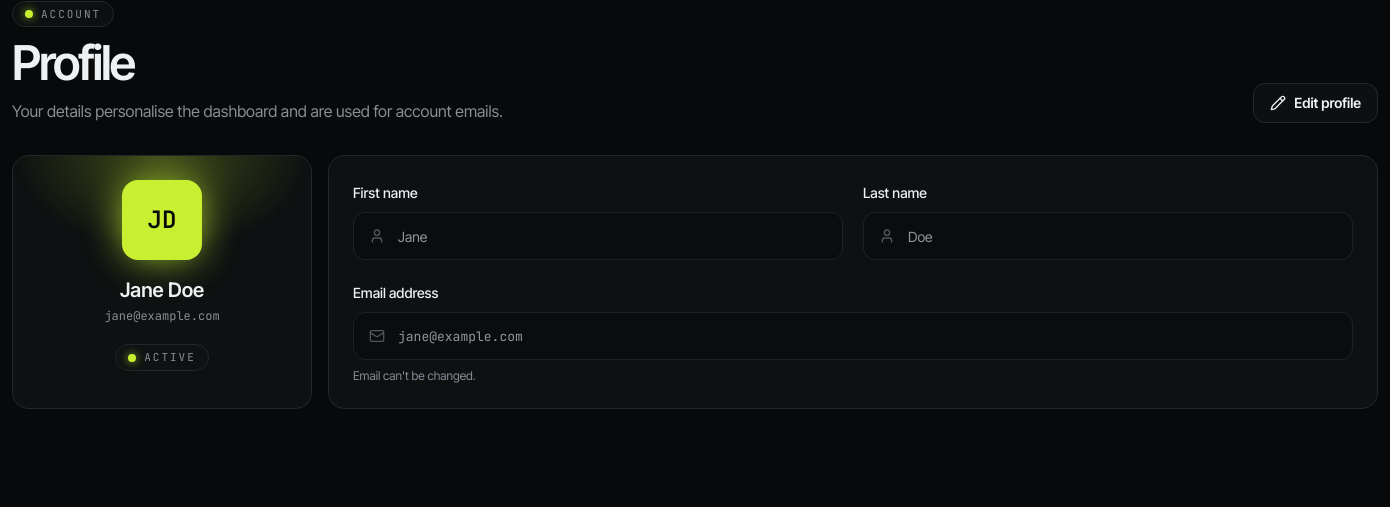
Test case: Profile › saves the edited name
Click the button "Edit profile": (1316, 103) [1253,83,1378,123]
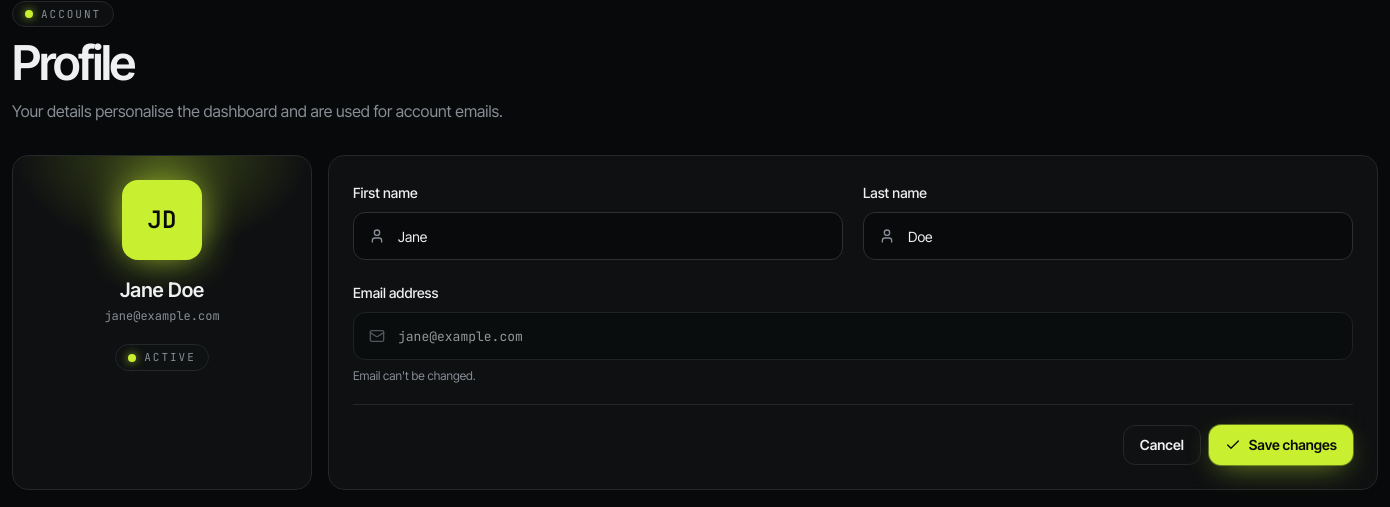
Replace the text in the field labelled "First name" with "Janet": (598, 236) [353,212,843,260]
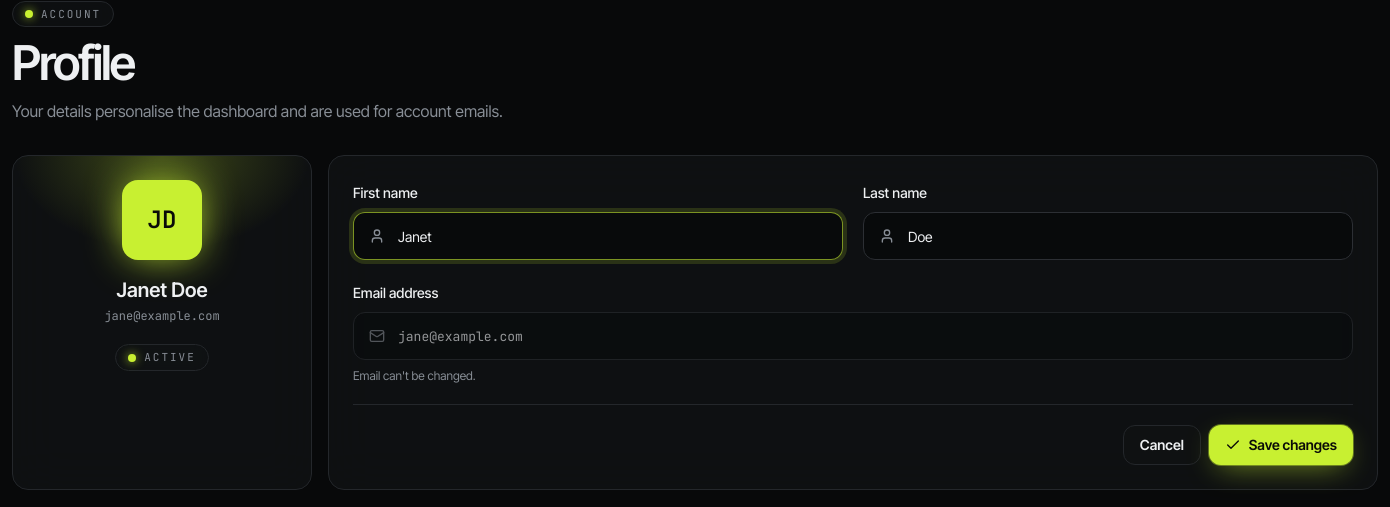
Click the button "Save changes": (1281, 445) [1209,425,1353,465]
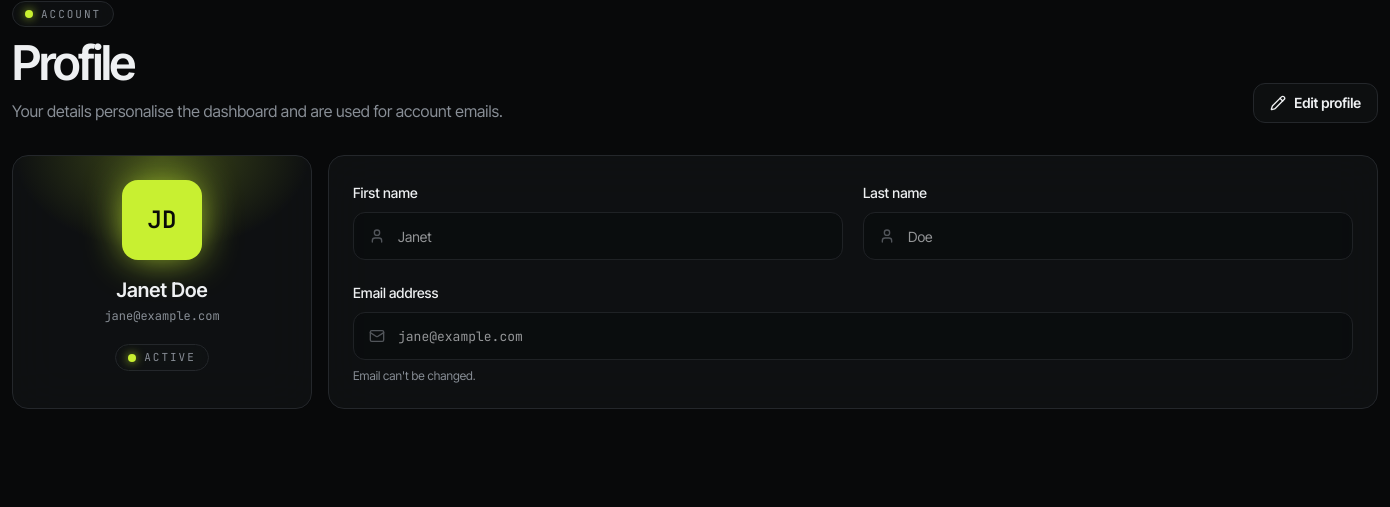
Now the field labelled "First name" is disabled, box [353,212,843,260]
